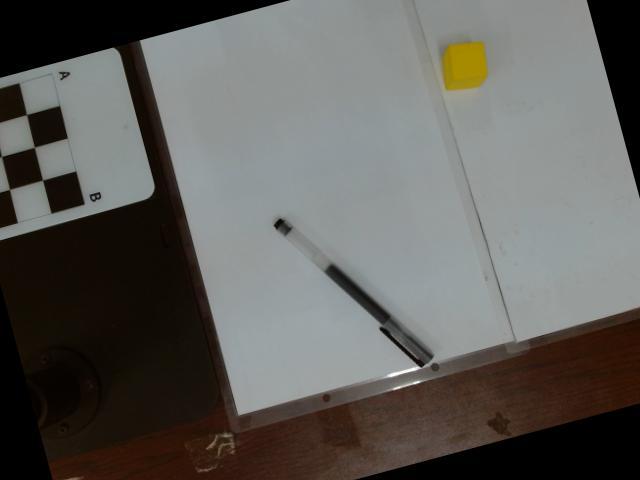PEN: (268, 214, 436, 369)
